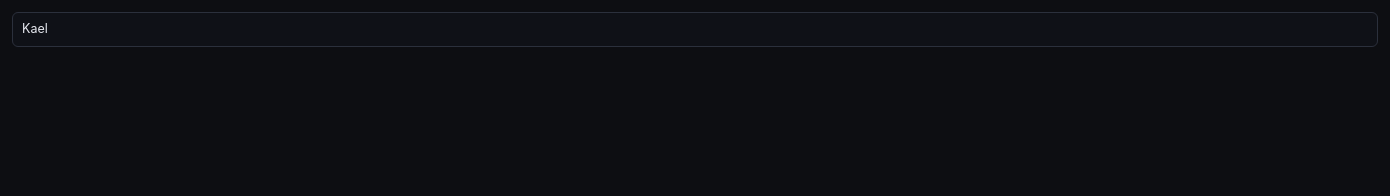
Test: combobox keyboard operation › abandons the search on Escape, keeping the value and the focus
Press ArrowDown in the dropdown named "Subject", box [12,12,1378,47]
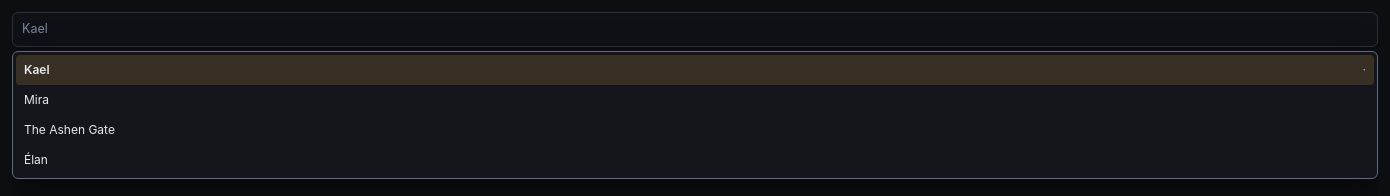
In the dropdown named "Subject": x=695, y=29 [12,12,1378,47], type "mir"
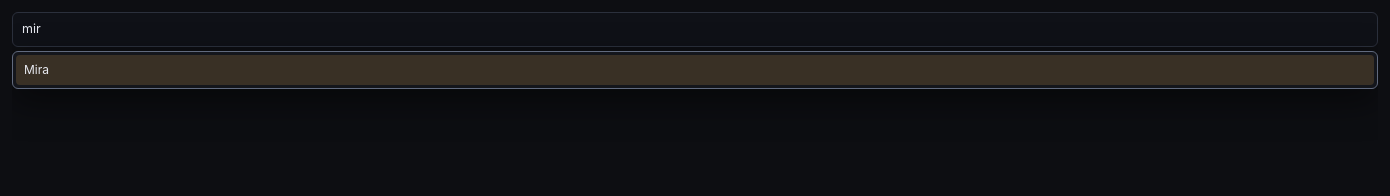
Press Escape in the dropdown named "Subject", box [12,12,1378,47]
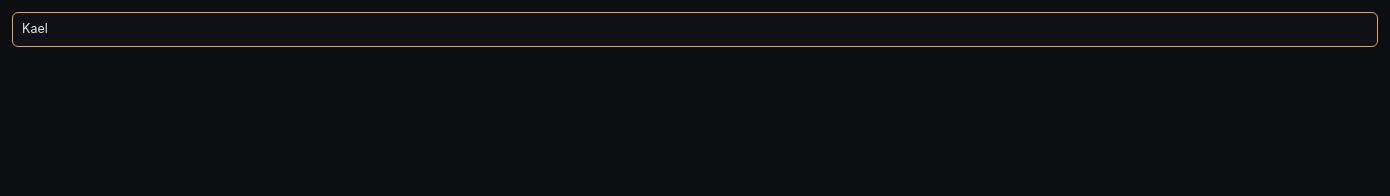
Check: the dropdown named "Subject" is collapsed, box [12,12,1378,47]
Check: the dropdown named "Subject" holds "Kael", box [12,12,1378,47]
